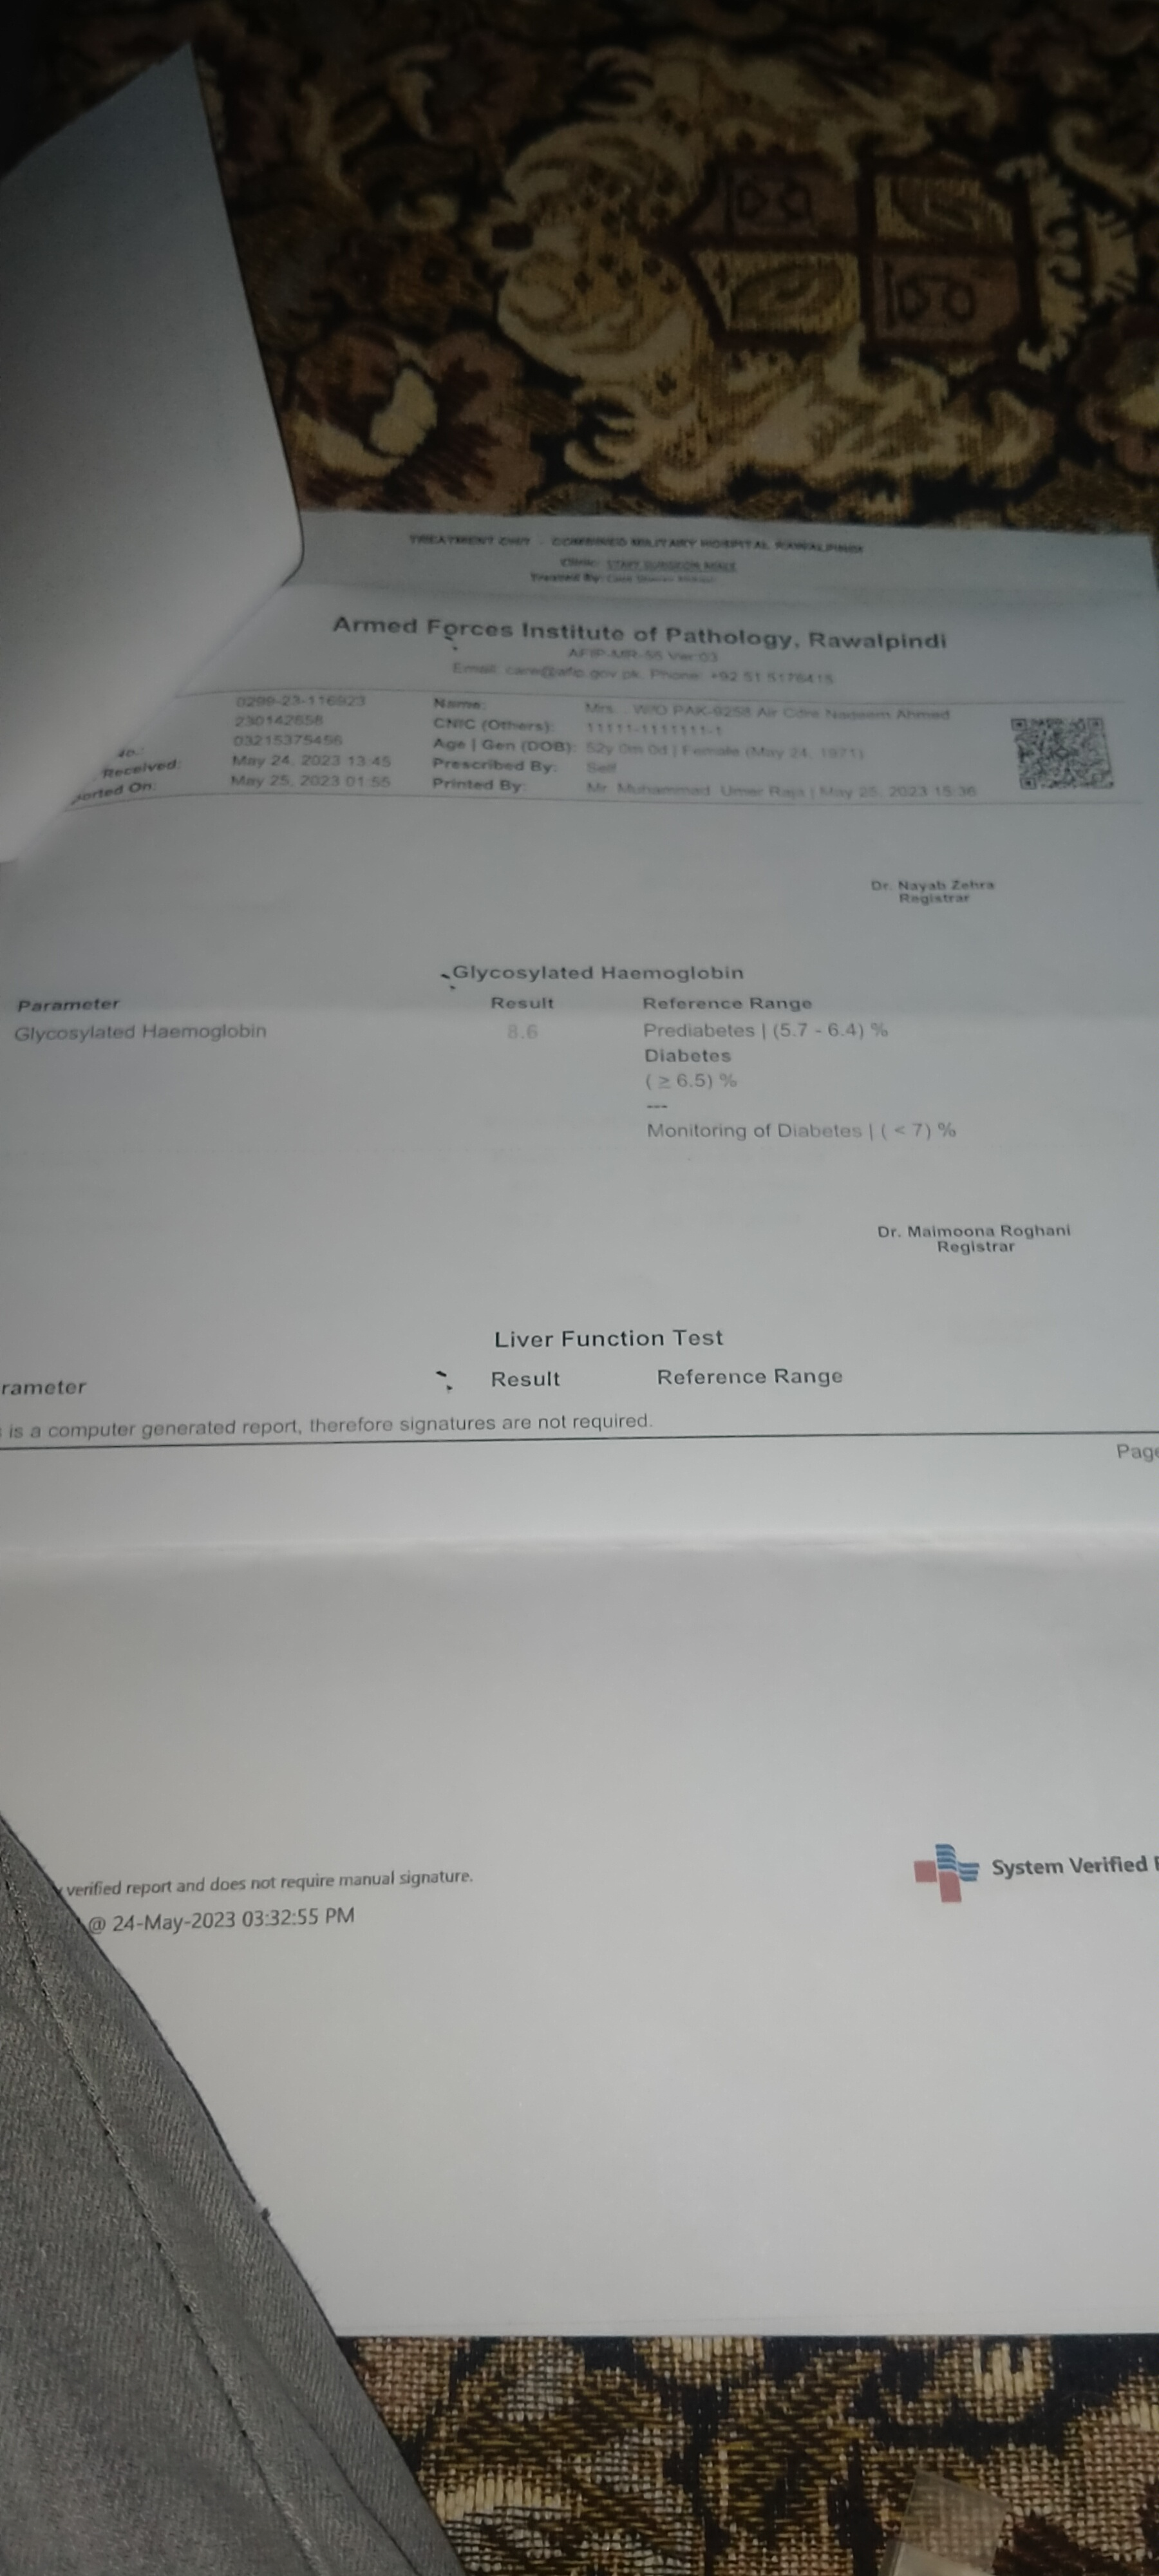report: (7, 930, 1149, 1428)
